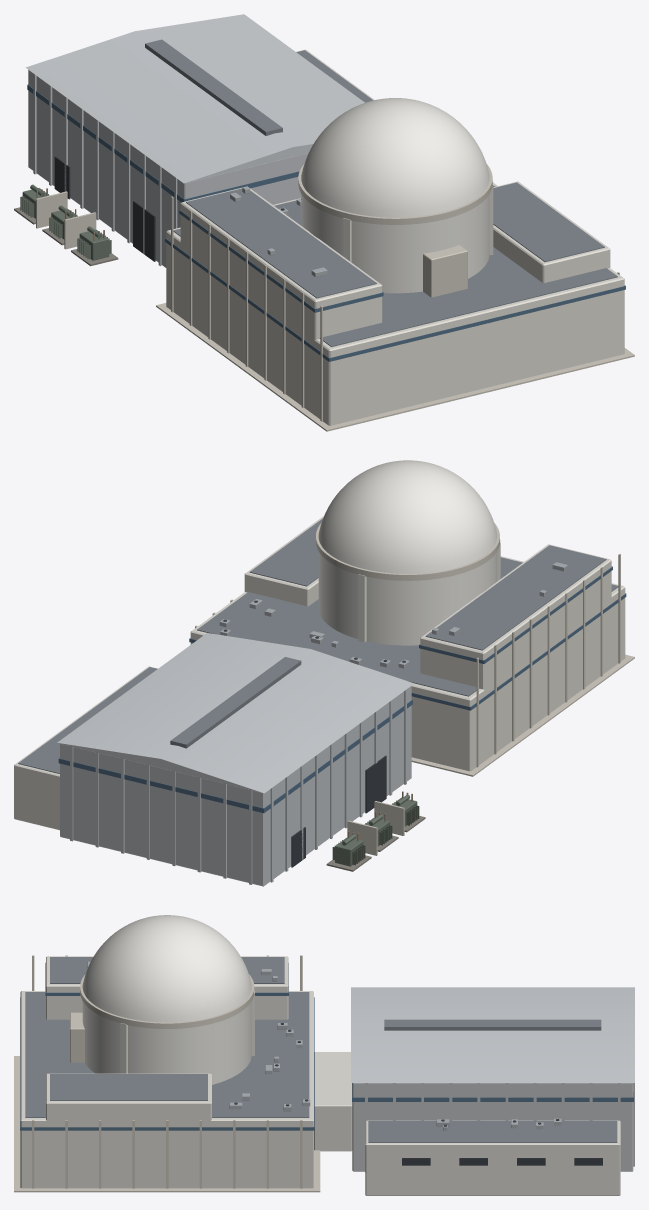
File: reactor-unit.glb
3 renders of one model, top to bottom at view 1: azimuth 30°, elevation 25°; view 2: azimuth 150°, elevation 25°; view 3: azimuth 270°, elevation 25°, orthographic. The views are drawn at different scales.
Visible parts, largest first — view 1: reactor_unit__concrete_white, reactor_unit__roof_metal, reactor_unit__dome_white, reactor_unit__roof_dark, reactor_unit__cladding, reactor_unit__concrete_light, reactor_unit__accent_blue, reactor_unit__transformer, reactor_unit__steel_dark; view 2: reactor_unit__cladding, reactor_unit__roof_metal, reactor_unit__concrete_white, reactor_unit__dome_white, reactor_unit__roof_dark, reactor_unit__concrete_light, reactor_unit__accent_blue, reactor_unit__transformer, reactor_unit__steel_dark, reactor_unit__hvac; view 3: reactor_unit__concrete_white, reactor_unit__roof_dark, reactor_unit__roof_metal, reactor_unit__dome_white, reactor_unit__cladding, reactor_unit__concrete_light, reactor_unit__accent_blue, reactor_unit__hvac, reactor_unit__steel_dark.
Part boxes in pixels (x1,y1,x2,y2): reactor_unit__concrete_white: (166, 49, 624, 425); reactor_unit__roof_metal: (25, 14, 364, 183); reactor_unit__dome_white: (301, 98, 493, 293); reactor_unit__roof_dark: (145, 39, 617, 346); reactor_unit__cladding: (28, 70, 308, 267); reactor_unit__concrete_light: (36, 164, 634, 431); reactor_unit__accent_blue: (27, 84, 625, 361); reactor_unit__transformer: (20, 184, 111, 260); reactor_unit__steel_dark: (54, 156, 301, 261); reactor_unit__cladding: (60, 686, 411, 886); reactor_unit__roof_metal: (57, 633, 414, 793); reactor_unit__concrete_white: (14, 516, 625, 830); reactor_unit__dome_white: (318, 460, 500, 645); reactor_unit__roof_dark: (18, 518, 618, 773); reactor_unit__concrete_light: (195, 523, 634, 855); reactor_unit__accent_blue: (58, 566, 626, 813); reactor_unit__transformer: (332, 795, 419, 866); reactor_unit__steel_dark: (223, 600, 405, 867); reactor_unit__hvac: (219, 562, 567, 668); reactor_unit__concrete_white: (20, 956, 620, 1195); reactor_unit__roof_dark: (25, 957, 617, 1142); reactor_unit__roof_metal: (351, 987, 634, 1082); reactor_unit__dome_white: (82, 915, 254, 1084); reactor_unit__cladding: (352, 1083, 634, 1172); reactor_unit__concrete_light: (14, 955, 320, 1192); reactor_unit__accent_blue: (20, 962, 633, 1130); reactor_unit__hvac: (87, 961, 561, 1130); reactor_unit__steel_dark: (234, 1023, 602, 1165).
Size of the model in its own units: 106 by 69.7 by 194.
